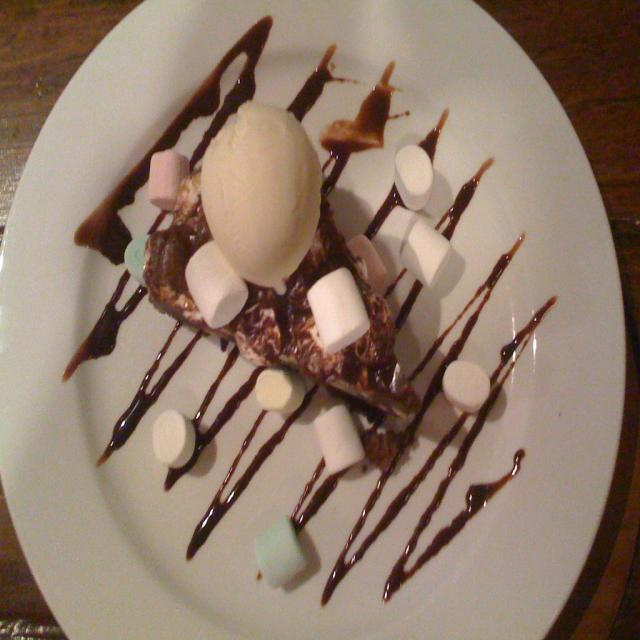non-organic waste: (14, 0, 635, 640)
